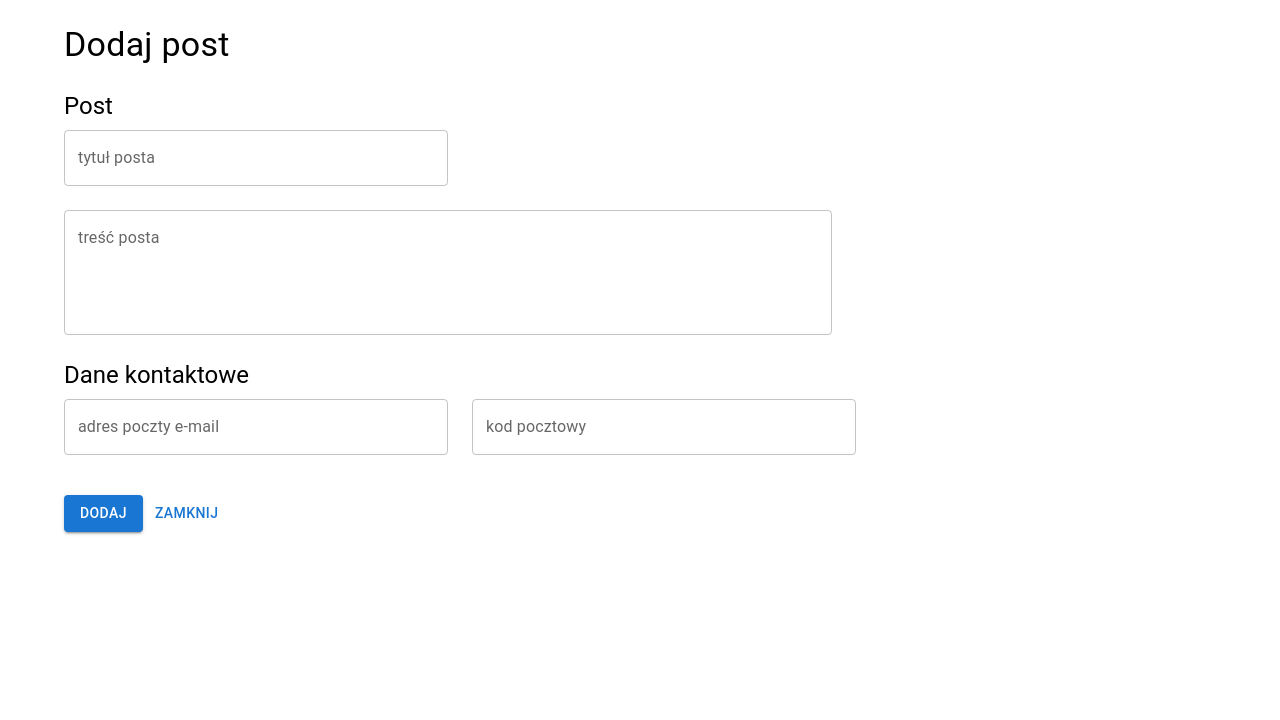
Test case: adding post › adds correctly with only required data
Type "dog" into the field labelled "tytuł posta". click: (256, 158)
box: [64,130,448,186]
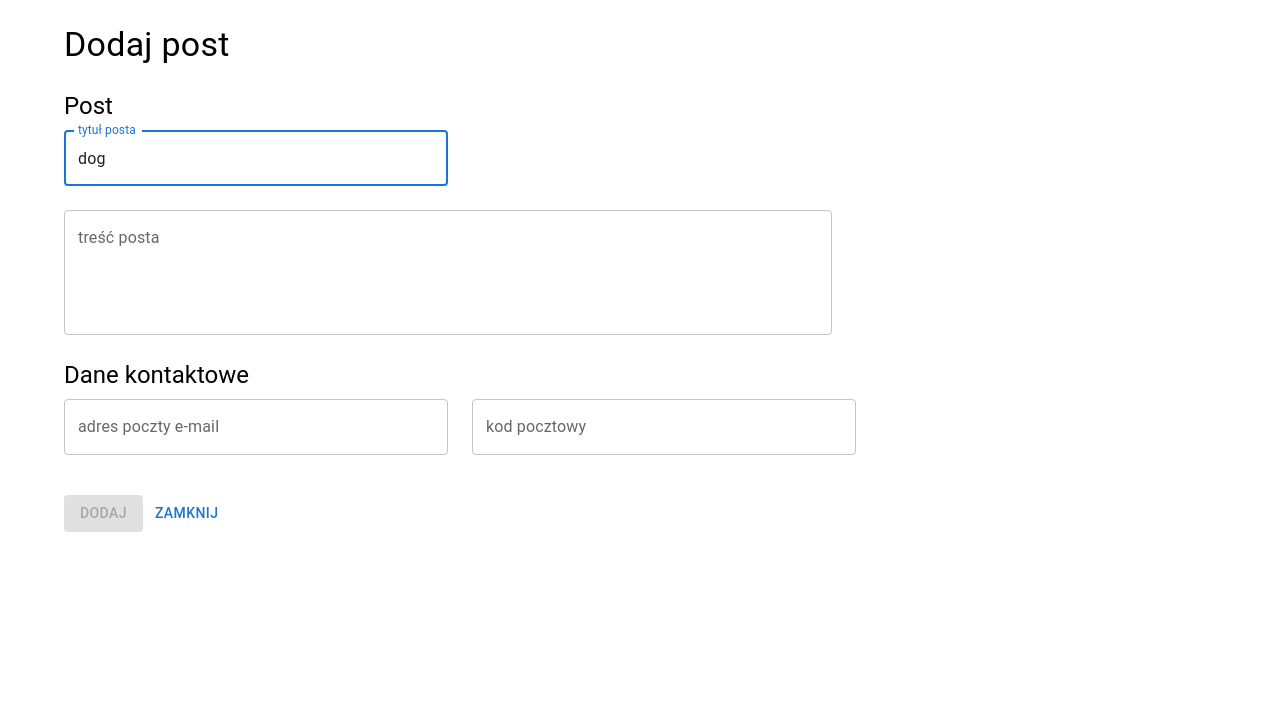
Type "doge@doge.com" into the field labelled "adres poczty e-mail". click: (256, 427)
box: [64,399,448,455]
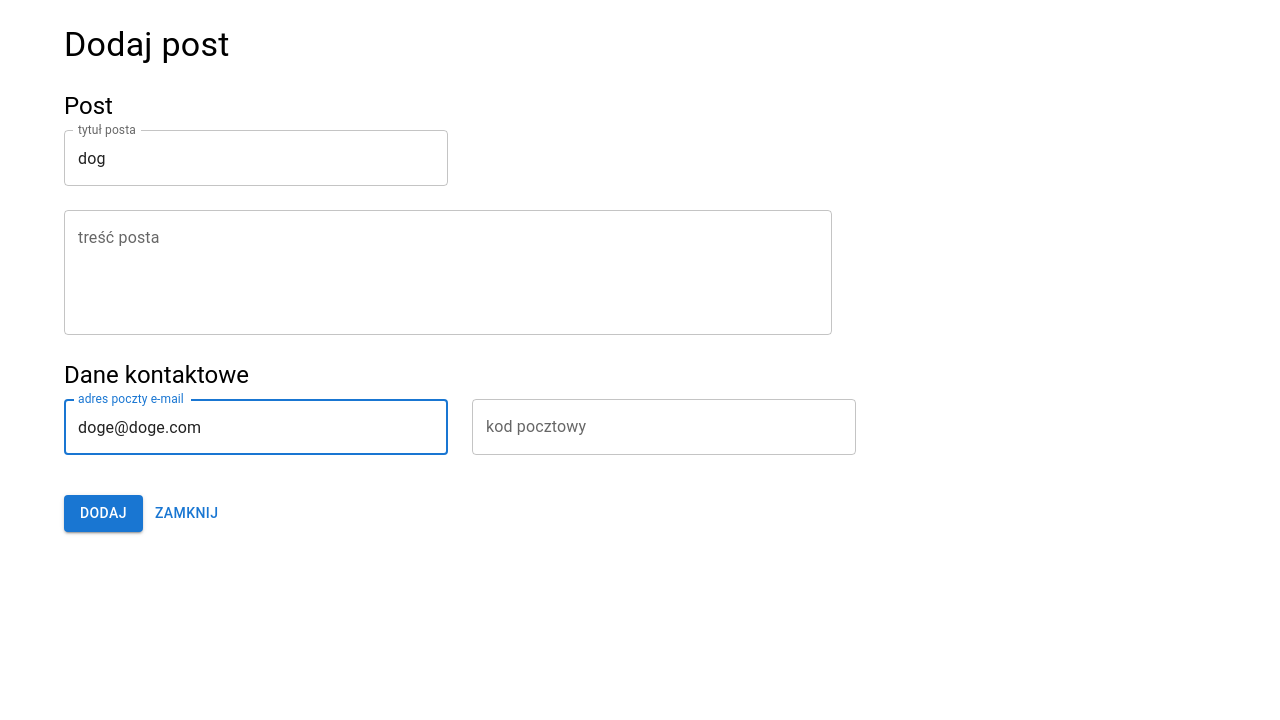
Click the button "dodaj". click: (103, 513)
box: [64,495,143,532]
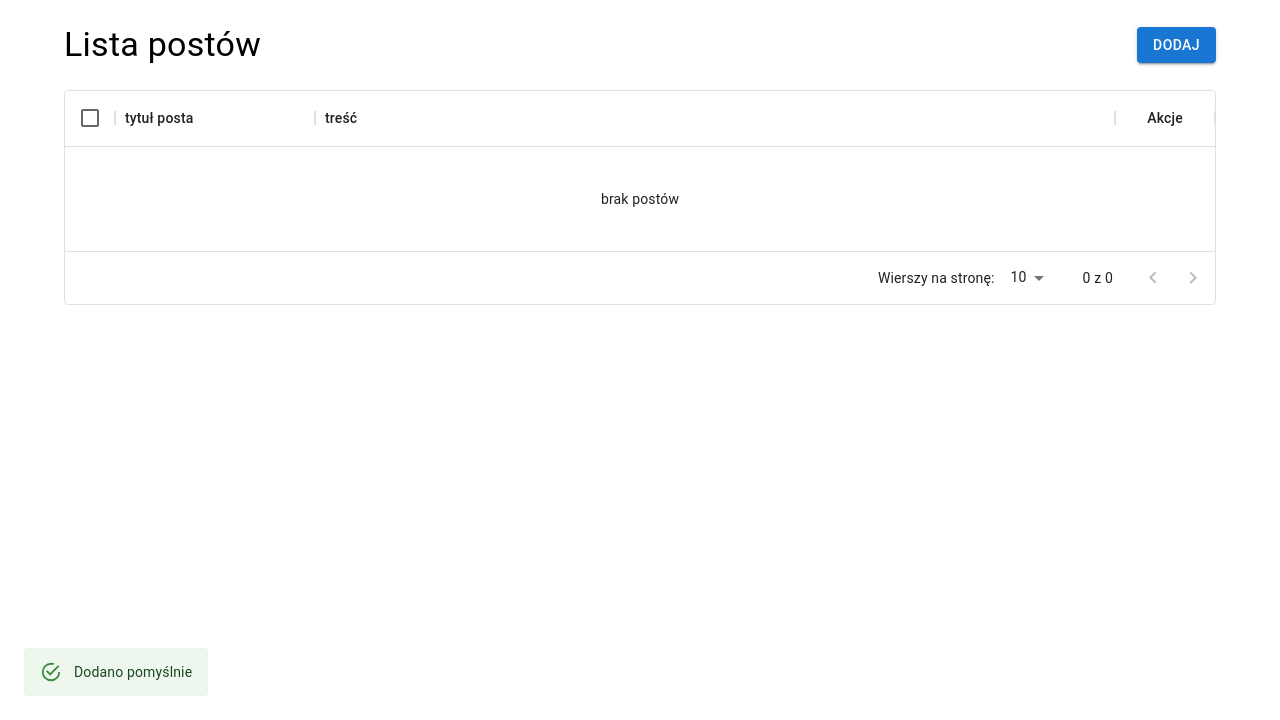
Now the text "Dodano pomyślnie" is shown, box [74,664,192,680]
